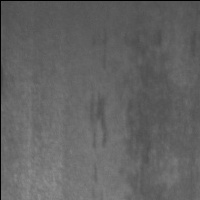inclusion: (127, 21, 177, 196), (83, 84, 114, 155), (94, 21, 115, 74)
